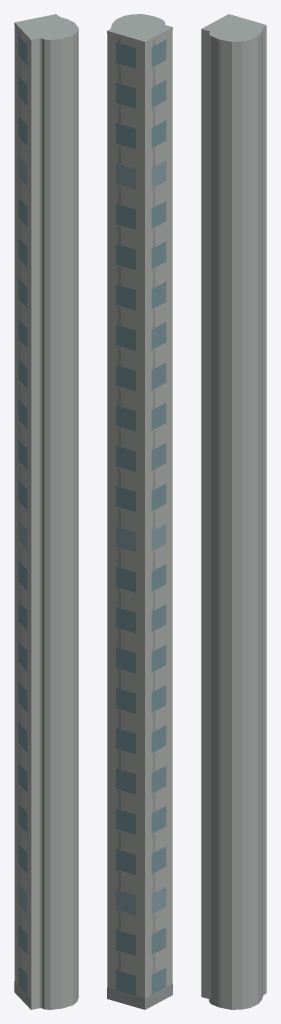
The model's file is survey-upis-33025508.glb.
3 views of the same model, side by side, from view 1: azimuth 30°, elevation 25°; view 2: azimuth 150°, elevation 25°; view 3: azimuth 330°, elevation 25° (orthographic).
Parts seen in each view (by area): view 1: survey-upis-33025508.tmp; view 2: survey-upis-33025508.tmp; view 3: survey-upis-33025508.tmp.
Boxes of the visible parts, x1,y1,x2,y2 form: survey-upis-33025508.tmp: (14,14,78,1009); survey-upis-33025508.tmp: (107,14,172,1009); survey-upis-33025508.tmp: (201,14,266,1009).
Size of the model in its own units: 3.98 by 73.2 by 3.9.
